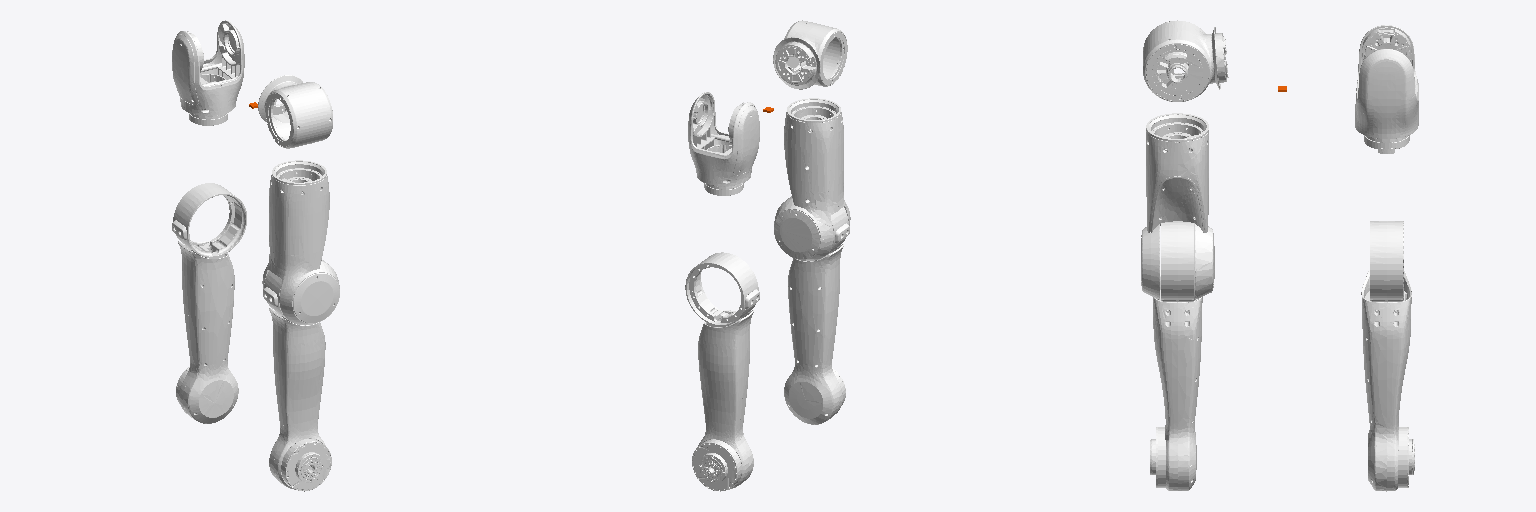
URDF robot description (bipedal_robot):
<?xml version="1.0"?>
<robot name="bipedal_robot">

  <!-- Materials -->
  <material name="grey">
    <color rgba="1 1 1 1"/>
  </material>
  <material name="white">
    <color rgba="1.0 1.0 1.0 1.0"/>
  </material>

  <material name="orange">
    <color rgba="1.0 0.423 0.039 1.0"/>
  </material>

<!-- ros_control plugin -->
  <gazebo>
    <plugin filename="libtron2_hw_sim.so" name="gazebo_ros_control">
      <robotNamespace>/</robotNamespace>
      <robotParam>robot_description</robotParam>
      <robotSimType>tron2_gazebo/Tron2HWSim</robotSimType>
    </plugin>
  </gazebo>

  <!-- Ground truth pose plugin -->
  <gazebo>
    <plugin filename="libgazebo_ros_p3d.so" name="p3d_base_controller">
      <alwaysOn>true</alwaysOn>
      <updateRate>1000.0</updateRate>
      <bodyName>base_Link</bodyName>
      <topicName>ground_truth/state</topicName>
      <gaussianNoise>0</gaussianNoise>
      <frameName>world</frameName>
      <xyzOffsets>0 0 0</xyzOffsets>
      <rpyOffsets>0 0 0</rpyOffsets>
    </plugin>
  </gazebo>
  <!-- Links -->
  <!-- IMU Link -->
  <joint name="limx_imu_joint" type="fixed">
    <origin rpy="0. 0. 0." xyz="0. 0. 0."/>
    <parent link="base_Link"/>
    <child link="limx_imu"/>
  </joint>

  <link name="limx_imu">
    <inertial>
      <mass value="0.01"/>
      <origin rpy="0 0 0" xyz="0 0 0"/>
      <inertia ixx="0.000001" ixy="0" ixz="0" iyy="0.000001" iyz="0" izz="0.000001"/>
    </inertial>
    <visual>
      <origin rpy="0 0 0" xyz="0 0 0"/>
      <geometry>
        <box size="0.015 0.015 0.004"/>
      </geometry>
      <material name="orange"/>
    </visual>
  </link>

  <gazebo reference="limx_imu_joint">
    <disableFixedJointLumping>true</disableFixedJointLumping>
  </gazebo>

  <link name="base_Link">
    <inertial>
      <origin xyz="-2.05E-03 -0.10E-03 113.04E-03" rpy="0 0 0"/>
      <mass value="11.07"/>
      <inertia ixx="104457.03E-06" ixy="33.54E-06" ixz="7218.53E-06"
               iyy="120930.21E-06" iyz="84.19E-06" izz="88931.63E-06"/>
    </inertial>
    <visual>
      <origin xyz="0 0 0" rpy="0 0 0"/>
      <geometry>
        <mesh filename="base_Link.STL"/>
      </geometry>
      <material name="grey"/>
    </visual>
    <collision>
      <origin xyz="0 0 0" rpy="0 0 0"/>
      <geometry>
        <mesh filename="base_Link.STL"/>
      </geometry>
    </collision>
  </link>

  <link name="proximal_pitch_L_Link">
    <inertial>
      <origin xyz="-5.22E-03 69.76E-03 -6.08E-03" rpy="0 0 0"/>
      <mass value="2.07"/>
      <inertia ixx="4154.53E-06" ixy="-14.00E-06" ixz="18.41E-06"
               iyy="2922.29E-06" iyz="51.96E-06" izz="3333.39E-06"/>
    </inertial>
    <visual>
      <origin xyz="0 0 0" rpy="0 0 0"/>
      <geometry>
        <mesh filename="proximal_pitch_L_Link.STL"/>
      </geometry>
      <material name="grey"/>
    </visual>
    <collision>
      <origin xyz="0 0 0" rpy="0 0 0"/>
      <geometry>
        <mesh filename="proximal_pitch_L_Link.STL"/>
      </geometry>
    </collision>
  </link>

  <link name="proximal_roll_L_Link">
    <inertial>
      <origin xyz="31.24E-03 0.35E-03 -84.14E-03" rpy="0 0 0"/>
      <mass value="1.74"/>
      <inertia ixx="4769.33E-06" ixy="-11.72E-06" ixz="32.71E-06"
               iyy="5455.84E-06" iyz="-29.46E-06" izz="3053.16E-06"/>
    </inertial>
    <visual>
      <origin xyz="0 0 0" rpy="0 0 0"/>
      <geometry>
        <mesh filename="proximal_roll_L_Link.STL"/>
      </geometry>
      <material name="grey"/>
    </visual>
    <collision>
      <origin xyz="0 0 0" rpy="0 0 0"/>
      <geometry>
        <mesh filename="proximal_roll_L_Link.STL"/>
      </geometry>
    </collision>
  </link>

  <link name="proximal_yaw_L_Link">
    <inertial>
      <origin xyz="-2.76E-03 1.64E-03 -111.48E-03" rpy="0 0 0"/>
      <mass value="1.56"/>
      <inertia ixx="15039.66E-06" ixy="-3.86E-06" ixz="266.64E-06"
               iyy="14341.41E-06" iyz="65.94E-06" izz="3757.85E-06"/>
    </inertial>
    <visual>
      <origin xyz="0 0 0" rpy="0 0 0"/>
      <geometry>
        <mesh filename="proximal_yaw_L_Link.STL"/>
      </geometry>
      <material name="grey"/>
    </visual>
    <collision>
      <origin xyz="0 0 0" rpy="0 0 0"/>
      <geometry>
        <mesh filename="proximal_yaw_L_Link.STL"/>
      </geometry>
    </collision>
  </link>

  <link name="knee_L_Link">
    <inertial>
      <origin xyz="-2.17E-03 -24.32E-03 -137.39E-03" rpy="0 0 0"/>
      <mass value="4.42"/>
      <inertia ixx="105288.72E-06" ixy="5.13E-06" ixz="-916.71E-06"
               iyy="106543.51E-06" iyz="1476.64E-06" izz="5575.56E-06"/>
    </inertial>
    <visual>
      <origin xyz="0 0 0" rpy="0 0 0"/>
      <geometry>
        <mesh filename="knee_L_Link.STL"/>
      </geometry>
      <material name="grey"/>
    </visual>
    <collision>
      <origin xyz="0 0 0" rpy="0 0 0"/>
      <geometry>
        <mesh filename="knee_L_Link.STL"/>
      </geometry>
    </collision>
  </link>

  <link name="wheel_L_Link">
    <inertial>
      <origin xyz="0.54E-03 4.00E-03 0.34E-03" rpy="0 0 0"/>
      <mass value="0.75"/>
      <inertia ixx="2322.83E-06" ixy="0.36E-06" ixz="-21.35E-06"
               iyy="4464.39E-06" iyz="0.18E-06" izz="2350.88E-06"/>
    </inertial>
    <visual>
      <origin xyz="0 0 0" rpy="0 0 0"/>
      <geometry>
        <mesh filename="wheel_L_Link.STL"/>
      </geometry>
      <material name="grey"/>
    </visual>
    <collision>
      <origin xyz="0 0 0" rpy="0 0 0"/>
      <geometry>
        <mesh filename="wheel_L_Link.STL"/>
      </geometry>
    </collision>
  </link>

  <link name="proximal_roll_R_Link">
    <inertial>
      <origin xyz="0.03124 -0.00035 -0.08414" rpy="0 0 0"/>
      <mass value="1.74"/>
      <inertia ixx="0.00476933" ixy="1.172e-05" ixz="3.271e-05"
               iyy="0.00545584" iyz="2.946e-05" izz="0.00305316"/>
    </inertial>
    <visual>
      <origin xyz="0 0 0" rpy="0 0 0"/>
      <geometry>
        <mesh filename="proximal_roll_R_Link.STL"/>
      </geometry>
      <material name="grey"/>
    </visual>
    <collision>
      <origin xyz="0 0 0" rpy="0 0 0"/>
      <geometry>
        <mesh filename="proximal_roll_R_Link.STL"/>
      </geometry>
    </collision>
  </link>

  <link name="proximal_pitch_R_Link">
    <inertial>
      <origin xyz="-0.00522 -0.06976 -0.00608" rpy="0 0 0"/>
      <mass value="2.07"/>
      <inertia ixx="0.00415453" ixy="1.4e-05" ixz="1.841e-05"
               iyy="0.00292229" iyz="-5.196e-05" izz="0.00333339"/>
    </inertial>
    <visual>
      <origin xyz="0 0 0" rpy="0 0 0"/>
      <geometry>
        <mesh filename="proximal_pitch_R_Link.STL"/>
      </geometry>
      <material name="grey"/>
    </visual>
    <collision>
      <origin xyz="0 0 0" rpy="0 0 0"/>
      <geometry>
        <mesh filename="proximal_pitch_R_Link.STL"/>
      </geometry>
    </collision>
  </link>

  <link name="wheel_R_Link">
    <inertial>
      <origin xyz="0.00054 -0.004 0.00034" rpy="0 0 0"/>
      <mass value="0.75"/>
      <inertia ixx="0.00232283" ixy="-3.6e-07" ixz="-2.135e-05"
               iyy="0.00446439" iyz="-1.8e-07" izz="0.00235088"/>
    </inertial>
    <visual>
      <origin xyz="0 0 0" rpy="0 0 0"/>
      <geometry>
        <mesh filename="wheel_R_Link.STL"/>
      </geometry>
      <material name="grey"/>
    </visual>
    <collision>
      <origin xyz="0 0 0" rpy="0 0 0"/>
      <geometry>
        <mesh filename="wheel_R_Link.STL"/>
      </geometry>
    </collision>
  </link>

  <link name="proximal_yaw_R_Link">
    <inertial>
      <origin xyz="-0.00276 -0.00164 -0.11148" rpy="0 0 0"/>
      <mass value="1.56"/>
      <inertia ixx="0.01503966" ixy="3.86e-06" ixz="0.00026664"
               iyy="0.01434141" iyz="-6.594e-05" izz="0.00375785"/>
    </inertial>
    <visual>
      <origin xyz="0 0 0" rpy="0 0 0"/>
      <geometry>
        <mesh filename="proximal_yaw_R_Link.STL"/>
      </geometry>
      <material name="grey"/>
    </visual>
    <collision>
      <origin xyz="0 0 0" rpy="0 0 0"/>
      <geometry>
        <mesh filename="proximal_yaw_R_Link.STL"/>
      </geometry>
    </collision>
  </link>

  <link name="knee_R_Link">
    <inertial>
      <origin xyz="-0.00217 0.02432 -0.13739" rpy="0 0 0"/>
      <mass value="4.42"/>
      <inertia ixx="0.10528872" ixy="-5.13e-06" ixz="-0.00091671"
               iyy="0.10654351" iyz="-0.00147664" izz="0.00557556"/>
    </inertial>
    <visual>
      <origin xyz="0 0 0" rpy="0 0 0"/>
      <geometry>
        <mesh filename="knee_R_Link.STL"/>
      </geometry>
      <material name="grey"/>
    </visual>
    <collision>
      <origin xyz="0 0 0" rpy="0 0 0"/>
      <geometry>
        <mesh filename="knee_R_Link.STL"/>
      </geometry>
    </collision>
  </link>

  <!-- Joints -->
  <joint name="proximal_pitch_L_Joint" type="revolute">
    <origin xyz="-0.00044 0.09178 0.05474" rpy="0 0 0"/>
    <parent link="base_Link"/>
    <child link="proximal_pitch_L_Link"/>
    <axis xyz="0 0.99619 -0.087155"/>
    <limit lower="-3.141592653589793" upper="2.600540585471551" effort="200" velocity="18.3"/>
  </joint>

  <joint name="proximal_roll_L_Joint" type="revolute">
    <origin xyz="-0.032 0.0758 -0.00663" rpy="0 0 0"/>
    <parent link="proximal_pitch_L_Link"/>
    <child link="proximal_roll_L_Link"/>
    <axis xyz="1 0 0"/>
    <limit lower="-0.2617993877991494" upper="3.2288591161895095" effort="200" velocity="18.3"/>
  </joint>

  <joint name="proximal_yaw_L_Joint" type="revolute">
    <origin xyz="0.032 0.0 -0.1374" rpy="0 0 0"/>
    <parent link="proximal_roll_L_Link"/>
    <child link="proximal_yaw_L_Link"/>
    <axis xyz="0 0 1"/>
    <limit lower="-3.6651914291880923" upper="1.4835298641951802" effort="70" velocity="22.52"/>
  </joint>

  <joint name="knee_L_Joint" type="revolute">
    <origin xyz="0.004 0.032 -0.2126" rpy="0 0 0"/>
    <parent link="proximal_yaw_L_Link"/>
    <child link="knee_L_Link"/>
    <axis xyz="0 1 0"/>
    <limit lower="-2.6179938779914944" upper="0.2617993877991494" effort="200" velocity="18.3"/>
  </joint>

  <joint name="wheel_L_Joint" type="revolute">
    <origin xyz="-0.004 0.013 -0.35" rpy="0 0 0"/>
    <parent link="knee_L_Link"/>
    <child link="wheel_L_Link"/>
    <axis xyz="0 1 0"/>
    <limit lower="-1745329.2519943293" upper="1745329.2519943293" effort="22" velocity="41.89"/>
  </joint>

  <joint name="proximal_pitch_R_Joint" type="revolute">
    <origin xyz="-0.00044 -0.09178 0.05474" rpy="0 0 0"/>
    <parent link="base_Link"/>
    <child link="proximal_pitch_R_Link"/>
    <axis xyz="0 0.99619 0.087155"/>
    <limit lower="-3.141592653589793" upper="2.600540585471551" effort="200" velocity="18.3"/>
  </joint>

  <joint name="wheel_R_Joint" type="revolute">
    <origin xyz="-0.004 -0.013 -0.35" rpy="0 0 0"/>
    <parent link="knee_R_Link"/>
    <child link="wheel_R_Link"/>
    <axis xyz="0 1 0"/>
    <limit lower="-1745329.2519943293" upper="1745329.2519943293" effort="22" velocity="41.89"/>
  </joint>

  <joint name="proximal_roll_R_Joint" type="revolute">
    <origin xyz="-0.032 -0.0758 -0.00663" rpy="0 0 0"/>
    <parent link="proximal_pitch_R_Link"/>
    <child link="proximal_roll_R_Link"/>
    <axis xyz="1 0 0"/>
    <limit lower="-3.2288591161895095" upper="0.2617993877991494" effort="200" velocity="18.3"/>
  </joint>

  <joint name="knee_R_Joint" type="revolute">
    <origin xyz="0.004 -0.032 -0.2126" rpy="0 0 0"/>
    <parent link="proximal_yaw_R_Link"/>
    <child link="knee_R_Link"/>
    <axis xyz="0 1 0"/>
    <limit lower="-2.6179938779914944" upper="0.2617993877991494" effort="200" velocity="18.3"/>
  </joint>

  <joint name="proximal_yaw_R_Joint" type="revolute">
    <origin xyz="0.032 -0.0 -0.1374" rpy="0 0 0"/>
    <parent link="proximal_roll_R_Link"/>
    <child link="proximal_yaw_R_Link"/>
    <axis xyz="0 0 1"/>
    <limit lower="-1.4835298641951802" upper="3.6651914291880923" effort="70" velocity="22.52"/>
  </joint>

  <gazebo reference="proximal_yaw_R_Link">
    <mu1>0.2</mu1>
    <mu2>0.2</mu2>
    <material>Gazebo/White</material>
  </gazebo>

  <gazebo reference="proximal_roll_L_Link">
    <mu1>0.2</mu1>
    <mu2>0.2</mu2>
    <material>Gazebo/DarkGrey</material>
  </gazebo>

  <gazebo reference="proximal_pitch_L_Link">
    <mu1>0.2</mu1>
    <mu2>0.2</mu2>
    <material>Gazebo/DarkGrey</material>
  </gazebo>

  <gazebo reference="proximal_roll_R_Link">
    <mu1>0.2</mu1>
    <mu2>0.2</mu2>
    <material>Gazebo/DarkGrey</material>
  </gazebo>

  <gazebo reference="proximal_pitch_R_Link">
    <mu1>0.2</mu1>
    <mu2>0.2</mu2>
    <material>Gazebo/DarkGrey</material>
  </gazebo>

  <gazebo reference="wheel_L_Link">
    <mu1>2.0</mu1>
    <mu2>2.0</mu2>
    <self_collide>1</self_collide>
    <material>Gazebo/DarkGrey</material>
    <kp value="1000000.0"/>
    <kd value="100.0"/>
  </gazebo>

  <gazebo reference="proximal_yaw_L_Link">
    <mu1>0.2</mu1>
    <mu2>0.2</mu2>
    <material>Gazebo/White</material>
  </gazebo>

  <gazebo reference="knee_L_Link">
    <mu1>0.2</mu1>
    <mu2>0.2</mu2>
    <self_collide>0</self_collide>
    <material>Gazebo/DarkGrey</material>
    <kp value="1000000.0"/>
    <kd value="100.0"/>
  </gazebo>

  <gazebo reference="knee_R_Link">
    <mu1>0.2</mu1>
    <mu2>0.2</mu2>
    <self_collide>0</self_collide>
    <material>Gazebo/DarkGrey</material>
    <kp value="1000000.0"/>
    <kd value="100.0"/>
  </gazebo>

  <gazebo reference="wheel_R_Link">
    <mu1>2.0</mu1>
    <mu2>2.0</mu2>
    <self_collide>1</self_collide>
    <material>Gazebo/DarkGrey</material>
    <kp value="1000000.0"/>
    <kd value="100.0"/>
  </gazebo>

  <!-- Transmissions -->
  <transmission name="knee_R_Joint_trans">
    <type>transmission_interface/SimpleTransmission</type>
    <joint name="knee_R_Joint">
      <hardwareInterface>hardware_interface/EffortJointInterface</hardwareInterface>
    </joint>
    <actuator name="knee_R_Joint_motor">
      <hardwareInterface>hardware_interface/EffortJointInterface</hardwareInterface>
      <mechanicalReduction>1</mechanicalReduction>
    </actuator>
  </transmission>

  <transmission name="proximal_pitch_R_Joint_trans">
    <type>transmission_interface/SimpleTransmission</type>
    <joint name="proximal_pitch_R_Joint">
      <hardwareInterface>hardware_interface/EffortJointInterface</hardwareInterface>
    </joint>
    <actuator name="proximal_pitch_R_Joint_motor">
      <hardwareInterface>hardware_interface/EffortJointInterface</hardwareInterface>
      <mechanicalReduction>1</mechanicalReduction>
    </actuator>
  </transmission>

  <transmission name="wheel_L_Joint_trans">
    <type>transmission_interface/SimpleTransmission</type>
    <joint name="wheel_L_Joint">
      <hardwareInterface>hardware_interface/EffortJointInterface</hardwareInterface>
    </joint>
    <actuator name="wheel_L_Joint_motor">
      <hardwareInterface>hardware_interface/EffortJointInterface</hardwareInterface>
      <mechanicalReduction>1</mechanicalReduction>
    </actuator>
  </transmission>

  <transmission name="proximal_roll_R_Joint_trans">
    <type>transmission_interface/SimpleTransmission</type>
    <joint name="proximal_roll_R_Joint">
      <hardwareInterface>hardware_interface/EffortJointInterface</hardwareInterface>
    </joint>
    <actuator name="proximal_roll_R_Joint_motor">
      <hardwareInterface>hardware_interface/EffortJointInterface</hardwareInterface>
      <mechanicalReduction>1</mechanicalReduction>
    </actuator>
  </transmission>

  <transmission name="proximal_pitch_L_Joint_trans">
    <type>transmission_interface/SimpleTransmission</type>
    <joint name="proximal_pitch_L_Joint">
      <hardwareInterface>hardware_interface/EffortJointInterface</hardwareInterface>
    </joint>
    <actuator name="proximal_pitch_L_Joint_motor">
      <hardwareInterface>hardware_interface/EffortJointInterface</hardwareInterface>
      <mechanicalReduction>1</mechanicalReduction>
    </actuator>
  </transmission>

  <transmission name="proximal_roll_L_Joint_trans">
    <type>transmission_interface/SimpleTransmission</type>
    <joint name="proximal_roll_L_Joint">
      <hardwareInterface>hardware_interface/EffortJointInterface</hardwareInterface>
    </joint>
    <actuator name="proximal_roll_L_Joint_motor">
      <hardwareInterface>hardware_interface/EffortJointInterface</hardwareInterface>
      <mechanicalReduction>1</mechanicalReduction>
    </actuator>
  </transmission>

  <transmission name="knee_L_Joint_trans">
    <type>transmission_interface/SimpleTransmission</type>
    <joint name="knee_L_Joint">
      <hardwareInterface>hardware_interface/EffortJointInterface</hardwareInterface>
    </joint>
    <actuator name="knee_L_Joint_motor">
      <hardwareInterface>hardware_interface/EffortJointInterface</hardwareInterface>
      <mechanicalReduction>1</mechanicalReduction>
    </actuator>
  </transmission>

  <transmission name="proximal_yaw_L_Joint_trans">
    <type>transmission_interface/SimpleTransmission</type>
    <joint name="proximal_yaw_L_Joint">
      <hardwareInterface>hardware_interface/EffortJointInterface</hardwareInterface>
    </joint>
    <actuator name="proximal_yaw_L_Joint_motor">
      <hardwareInterface>hardware_interface/EffortJointInterface</hardwareInterface>
      <mechanicalReduction>1</mechanicalReduction>
    </actuator>
  </transmission>

  <transmission name="wheel_R_Joint_trans">
    <type>transmission_interface/SimpleTransmission</type>
    <joint name="wheel_R_Joint">
      <hardwareInterface>hardware_interface/EffortJointInterface</hardwareInterface>
    </joint>
    <actuator name="wheel_R_Joint_motor">
      <hardwareInterface>hardware_interface/EffortJointInterface</hardwareInterface>
      <mechanicalReduction>1</mechanicalReduction>
    </actuator>
  </transmission>

  <transmission name="proximal_yaw_R_Joint_trans">
    <type>transmission_interface/SimpleTransmission</type>
    <joint name="proximal_yaw_R_Joint">
      <hardwareInterface>hardware_interface/EffortJointInterface</hardwareInterface>
    </joint>
    <actuator name="proximal_yaw_R_Joint_motor">
      <hardwareInterface>hardware_interface/EffortJointInterface</hardwareInterface>
      <mechanicalReduction>1</mechanicalReduction>
    </actuator>
  </transmission>

</robot>

--- Render facts (derived) ---
Views: 3 orthographic renders of the robot side by side, from view 1: azimuth 30°, elevation 25°; view 2: azimuth 150°, elevation 25°; view 3: azimuth 270°, elevation 25°.
Robot: bipedal_robot — 12 links, 11 joints (10 revolute, 1 fixed); root link base_Link; default pose: every joint at zero.
Visible links, largest first — view 1: knee_L_Link, proximal_yaw_R_Link, knee_R_Link, proximal_roll_L_Link, proximal_pitch_R_Link; view 2: knee_L_Link, proximal_yaw_R_Link, knee_R_Link, proximal_roll_L_Link, proximal_pitch_R_Link; view 3: knee_L_Link, knee_R_Link, proximal_yaw_R_Link, proximal_roll_L_Link, proximal_pitch_R_Link.
Link boxes in pixels (x1,y1,x2,y2): knee_L_Link: [172, 183, 246, 423]; proximal_yaw_R_Link: [262, 160, 339, 324]; knee_R_Link: [263, 260, 331, 491]; proximal_roll_L_Link: [172, 20, 244, 125]; proximal_pitch_R_Link: [258, 75, 332, 148]; knee_L_Link: [685, 252, 759, 491]; proximal_yaw_R_Link: [774, 98, 850, 260]; knee_R_Link: [781, 196, 849, 424]; proximal_roll_L_Link: [688, 92, 759, 195]; proximal_pitch_R_Link: [773, 20, 847, 89]; knee_L_Link: [1361, 221, 1414, 491]; knee_R_Link: [1150, 221, 1202, 490]; proximal_yaw_R_Link: [1141, 113, 1214, 299]; proximal_roll_L_Link: [1355, 25, 1418, 153]; proximal_pitch_R_Link: [1143, 20, 1228, 101].
Bounding box of the posed robot: 0.135 × 0.4465 × 0.8111 m (x, y, z).
5 mesh visuals loaded from 11 distinct referenced files (5 binary STL); not drawn: 6 (reference not matched to a file when rendering).
